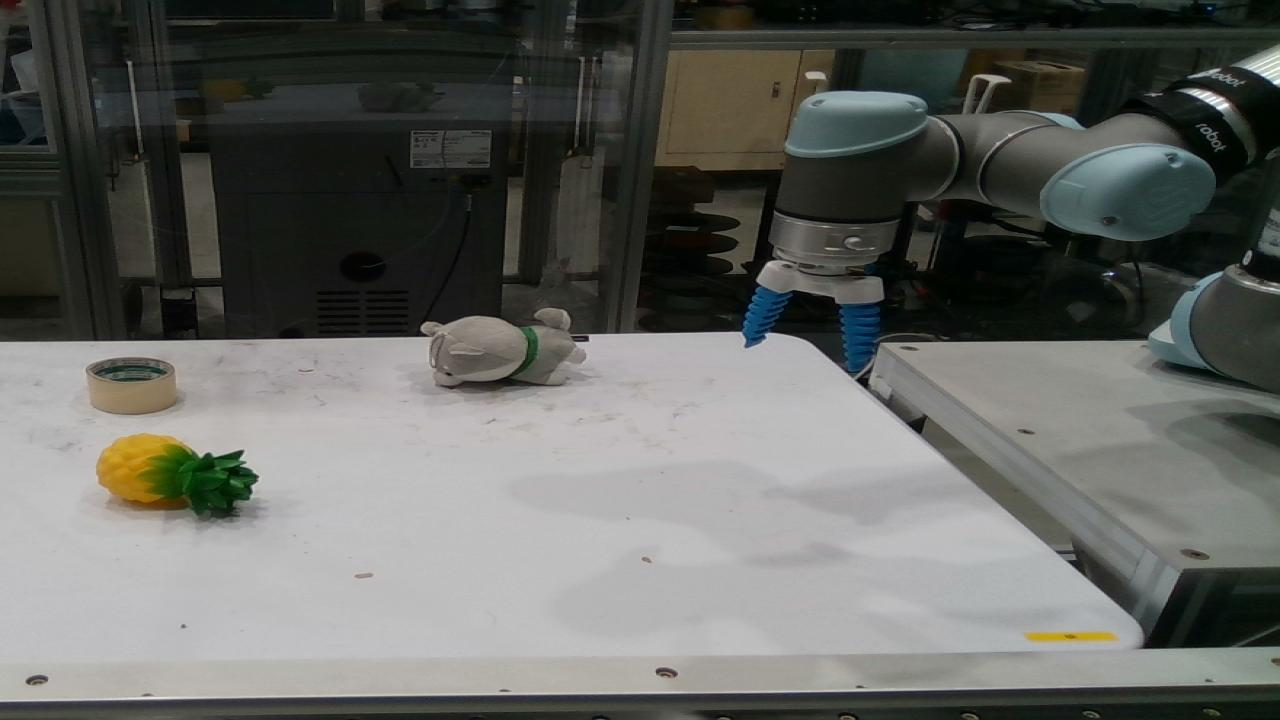UR5: (758, 47, 1278, 305)
gripper_left: (744, 287, 788, 345)
gripper_right: (842, 304, 878, 372)
target: (98, 435, 254, 514), (424, 309, 582, 386), (88, 357, 172, 413)
